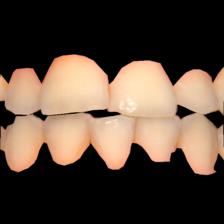cavity: (173, 131, 187, 149), (84, 134, 98, 145), (130, 128, 140, 143), (39, 135, 50, 144)
tooth: (109, 60, 178, 117), (45, 53, 108, 115), (180, 114, 223, 182), (91, 116, 139, 171), (45, 117, 96, 167), (136, 115, 183, 164), (174, 64, 216, 114), (6, 116, 44, 171), (8, 68, 43, 114)
